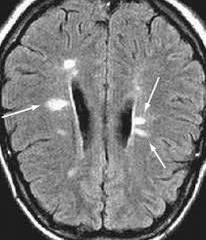Normal_Brain: (14, 1, 206, 240)
